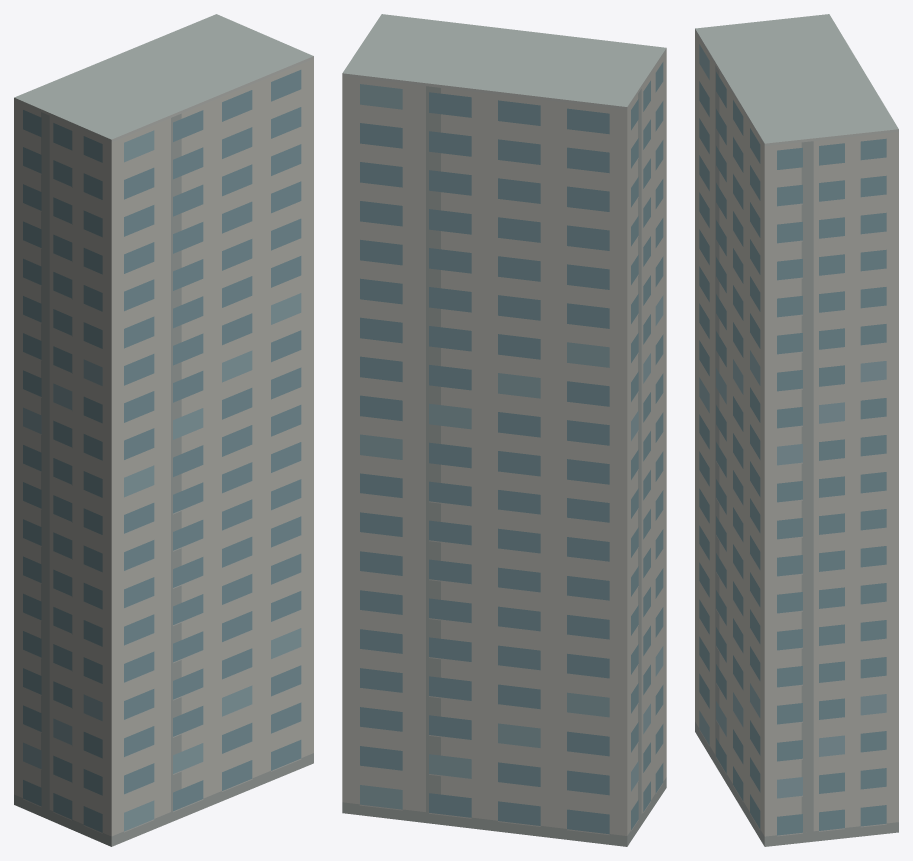
Rendered from residential-16d9676c-5533-49bb-8267-bd6e1e8e6fc7.glb.
3 renders of one model, left to right at view 1: azimuth 30°, elevation 25°; view 2: azimuth 150°, elevation 25°; view 3: azimuth 270°, elevation 25°, orthographic. The views are drawn at different scales.
Parts seen in each view (by area): view 1: residential-16d9676c-5533-49bb-8267-bd6e1e8e6fc7.tmp; view 2: residential-16d9676c-5533-49bb-8267-bd6e1e8e6fc7.tmp; view 3: residential-16d9676c-5533-49bb-8267-bd6e1e8e6fc7.tmp.
Part boxes in pixels (x1=…): residential-16d9676c-5533-49bb-8267-bd6e1e8e6fc7.tmp: x1=14, y1=14, x2=313, y2=846; residential-16d9676c-5533-49bb-8267-bd6e1e8e6fc7.tmp: x1=342, y1=14, x2=666, y2=846; residential-16d9676c-5533-49bb-8267-bd6e1e8e6fc7.tmp: x1=695, y1=14, x2=898, y2=846.
Bounding box in the file's own units: 24.53 × 62 × 16.3.
